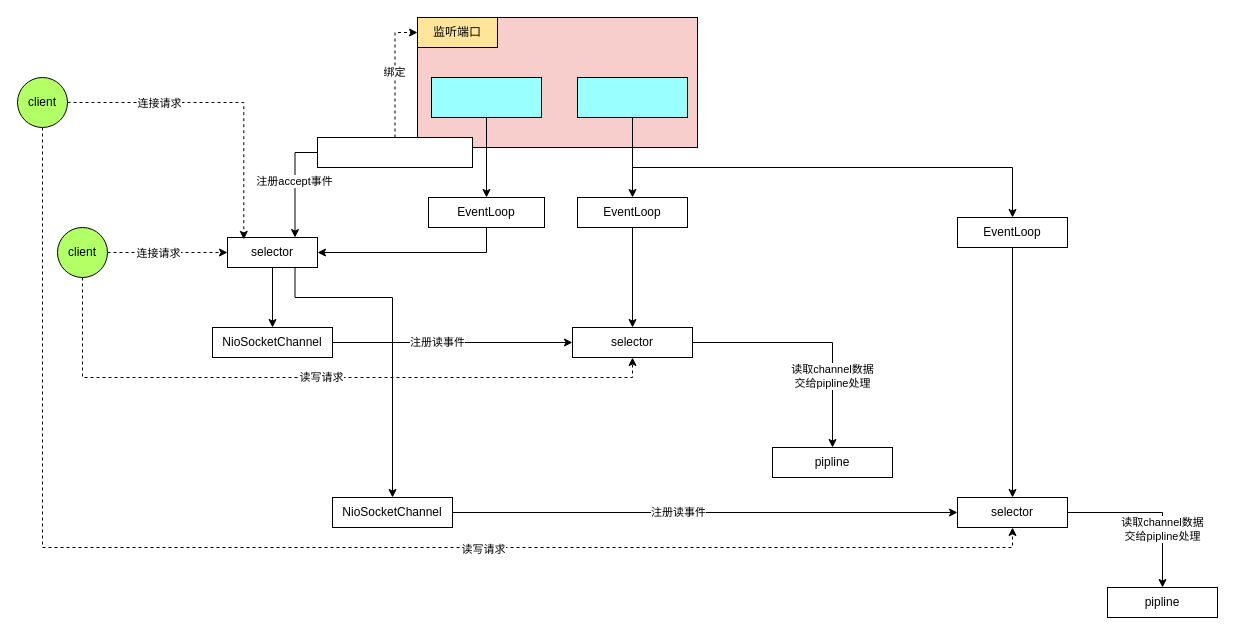
Some shapes in this 1235 by 635 pixel diagram are drawn without their labels. Here are the shapes that lost their labels. From the top down, the box of each, then its label:
(430, 76, 542, 118): bossGroup EventLoopGroup
(416, 16, 698, 148): ServerBootstrap
(576, 76, 688, 118): workerGroup EventLoopGroup
(316, 136, 472, 168): NioServerSocketChannel
